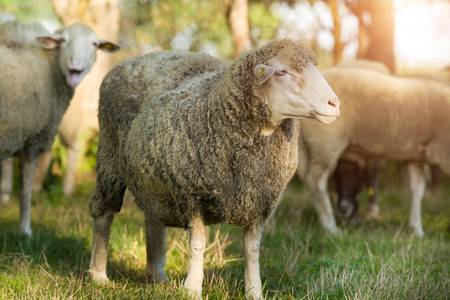sheep: (95, 43, 342, 296), (2, 20, 101, 248), (334, 54, 450, 235)
